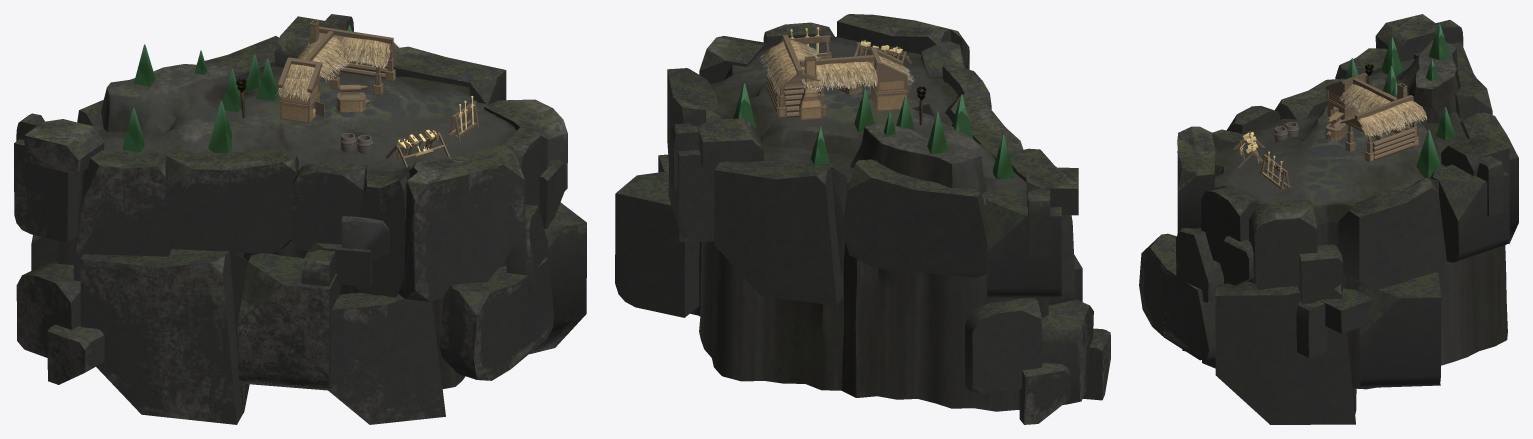
File: smithy.glb
3 renders of one model, left to right at view 1: azimuth 30°, elevation 25°; view 2: azimuth 150°, elevation 25°; view 3: azimuth 270°, elevation 25°, orthographic. The views are drawn at different scales.
Parts seen in each view (by area): view 1: smithy; view 2: smithy; view 3: smithy.
Boxes of the visible parts, <box> form: smithy: <box>14,14,586,424</box>; smithy: <box>615,14,1110,424</box>; smithy: <box>1139,14,1518,424</box>.
Size of the model in its own units: 2.52 by 1.59 by 2.03.
11 materials, 9 textured.
